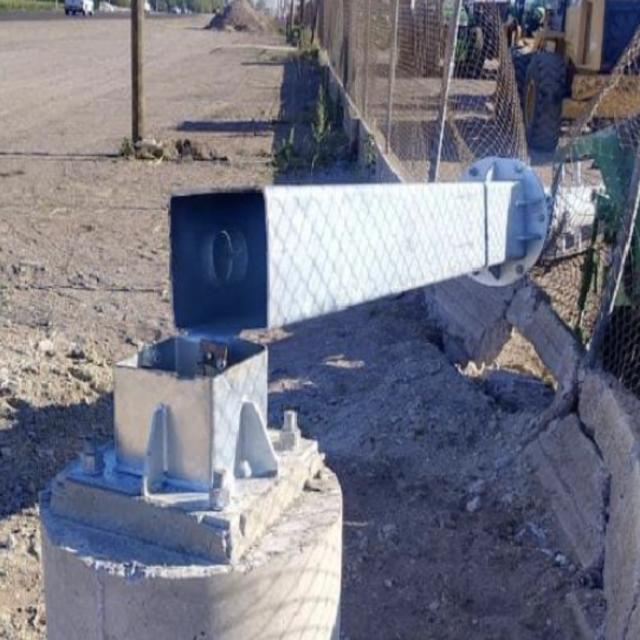Inclined Pole: (44, 158, 600, 559)
